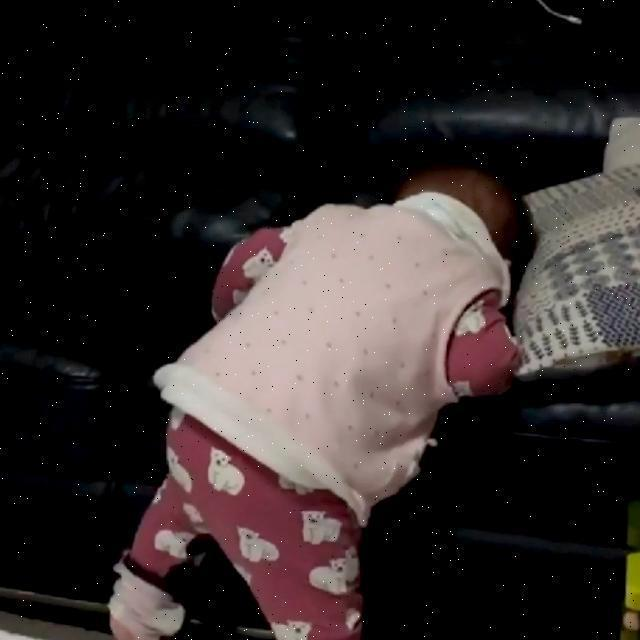child: (118, 161, 526, 640)
